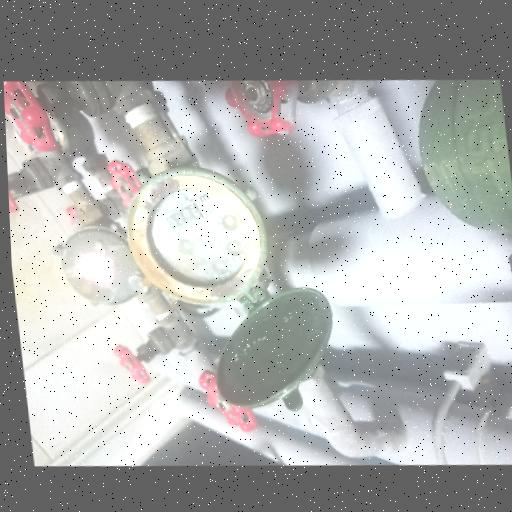0: (164, 213, 180, 232), (179, 205, 195, 223)
2: (172, 209, 188, 227)
6: (187, 201, 205, 223)
border_water_meter_number: (158, 194, 211, 238)
